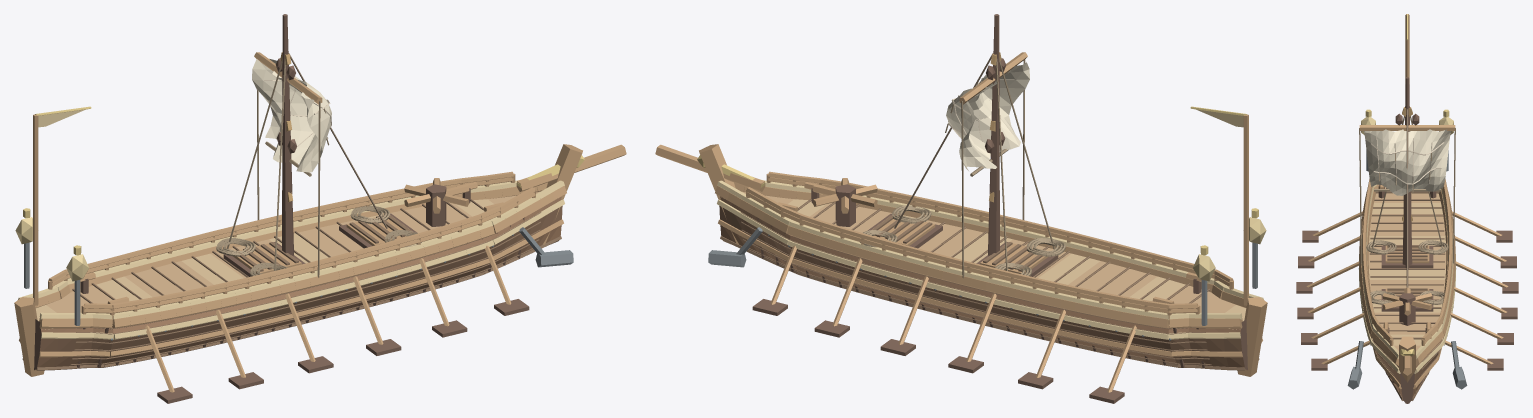
File: pirogue-v5-mobile.glb
The picture shows the model from 3 angles, left to right: view 1: azimuth 30°, elevation 25°; view 2: azimuth 150°, elevation 25°; view 3: azimuth 270°, elevation 25°; orthographic projection. The views are drawn at different scales.
Visible parts, largest first — view 1: pirogue_hull_wood, pirogue_railings_wood, pirogue_hull_pale, pirogue_hull_seam, pirogue_hull_hull2, pirogue_hull_hull, pirogue_hull_deck, pirogue_sails_sail, pirogue_hull_decklight, pirogue_fittings_wood, pirogue_oars_darkwood, pirogue_oars_wood (+11 smaller); view 2: pirogue_hull_wood, pirogue_railings_wood, pirogue_hull_pale, pirogue_hull_seam, pirogue_hull_hull2, pirogue_hull_hull, pirogue_hull_deck, pirogue_sails_sail, pirogue_hull_decklight, pirogue_fittings_wood, pirogue_oars_darkwood, pirogue_oars_wood (+11 smaller); view 3: pirogue_sails_sail, pirogue_hull_deck, pirogue_oars_wood, pirogue_hull_wood, pirogue_oars_darkwood, pirogue_hull_seam, pirogue_hull_decklight, pirogue_railings_wood, pirogue_hull_pale, pirogue_fittings_darkwood, pirogue_fittings_wood, pirogue_fittings_rope (+12 smaller).
Part boxes in pixels (x1=…): pirogue_hull_wood: x1=14, y1=144, x2=626, y2=376; pirogue_railings_wood: x1=48, y1=171, x2=535, y2=324; pirogue_hull_pale: x1=18, y1=179, x2=564, y2=339; pirogue_hull_seam: x1=22, y1=198, x2=561, y2=370; pirogue_hull_hull2: x1=37, y1=196, x2=561, y2=367; pirogue_hull_hull: x1=34, y1=205, x2=562, y2=370; pirogue_hull_deck: x1=46, y1=191, x2=539, y2=325; pirogue_sails_sail: x1=252, y1=58, x2=331, y2=172; pirogue_hull_decklight: x1=35, y1=199, x2=493, y2=329; pirogue_fittings_wood: x1=80, y1=178, x2=503, y2=303; pirogue_oars_darkwood: x1=157, y1=299, x2=529, y2=403; pirogue_oars_wood: x1=145, y1=245, x2=511, y2=392; pirogue_hull_wood: x1=655, y1=144, x2=1267, y2=376; pirogue_railings_wood: x1=746, y1=171, x2=1233, y2=324; pirogue_hull_pale: x1=717, y1=179, x2=1263, y2=339; pirogue_hull_seam: x1=720, y1=198, x2=1259, y2=370; pirogue_hull_hull2: x1=720, y1=196, x2=1244, y2=367; pirogue_hull_hull: x1=719, y1=205, x2=1247, y2=370; pirogue_hull_deck: x1=742, y1=191, x2=1235, y2=325; pirogue_sails_sail: x1=946, y1=62, x2=1029, y2=170; pirogue_hull_decklight: x1=788, y1=199, x2=1246, y2=329; pirogue_fittings_wood: x1=778, y1=178, x2=1201, y2=303; pirogue_oars_darkwood: x1=752, y1=299, x2=1124, y2=403; pirogue_oars_wood: x1=770, y1=245, x2=1136, y2=392; pirogue_sails_sail: x1=1364, y1=129, x2=1450, y2=195; pirogue_hull_deck: x1=1368, y1=187, x2=1446, y2=350; pirogue_oars_wood: x1=1306, y1=211, x2=1508, y2=364; pirogue_hull_wood: x1=1359, y1=184, x2=1455, y2=393; pirogue_oars_darkwood: x1=1296, y1=230, x2=1518, y2=370; pirogue_hull_seam: x1=1369, y1=191, x2=1445, y2=400; pirogue_hull_decklight: x1=1369, y1=203, x2=1445, y2=345; pirogue_railings_wood: x1=1362, y1=179, x2=1452, y2=345; pirogue_hull_pale: x1=1359, y1=184, x2=1455, y2=373; pirogue_fittings_darkwood: x1=1378, y1=185, x2=1436, y2=333; pirogue_fittings_wood: x1=1379, y1=185, x2=1432, y2=331; pirogue_fittings_rope: x1=1366, y1=240, x2=1448, y2=304.
Size of the model in its own units: 36.45 by 17.22 by 15.1.
